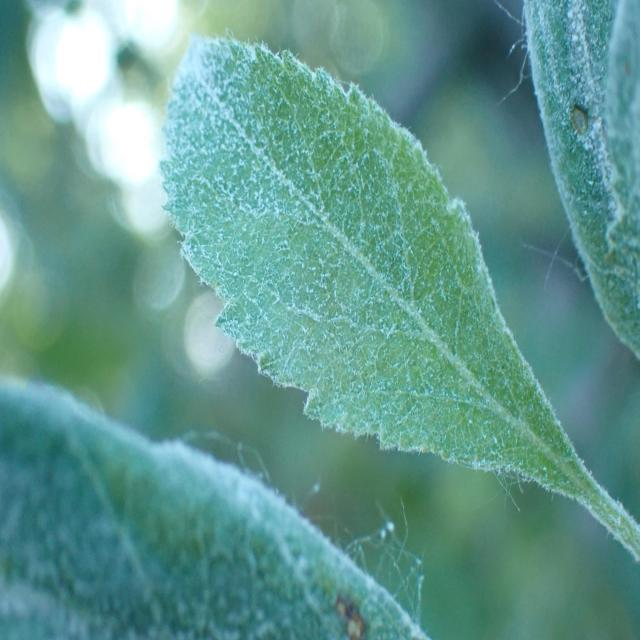Powdery_mildew: (164, 35, 610, 507), (0, 345, 459, 639), (510, 0, 640, 417)
